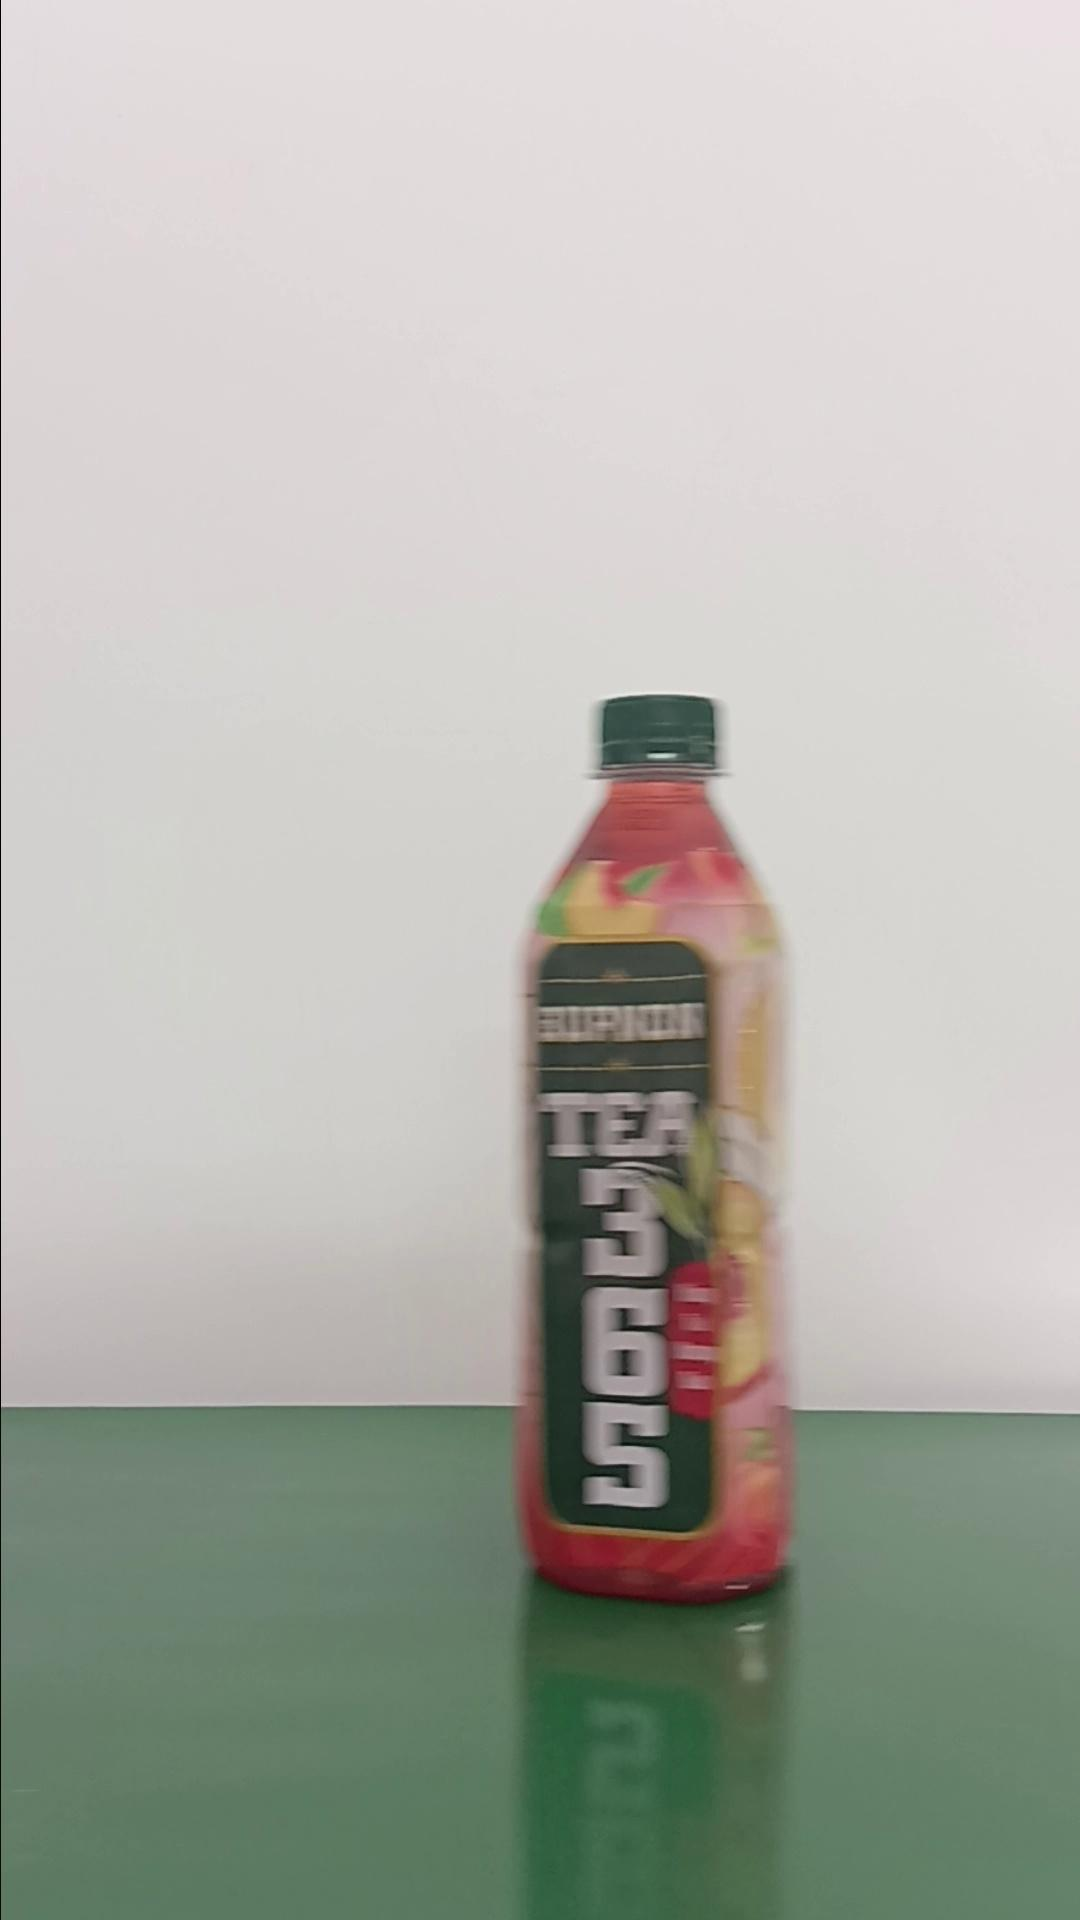khong loi: (512, 690, 796, 1604)
